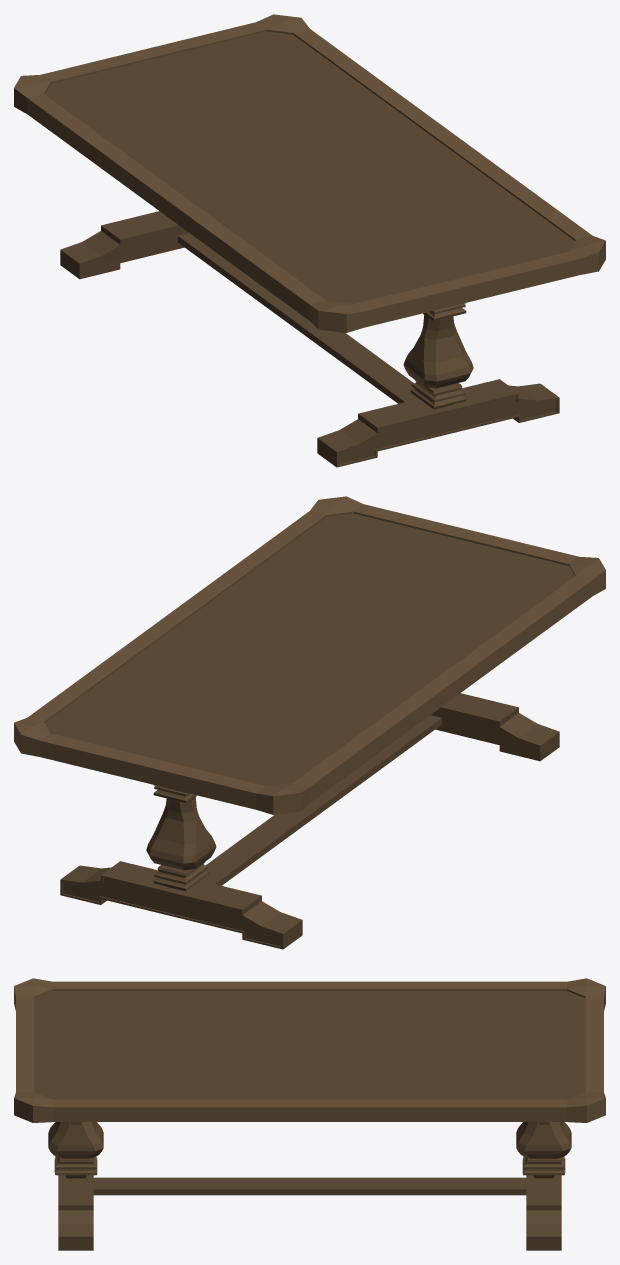
Rendered from Table2.glb.
3 renders of one model, top to bottom at view 1: azimuth 30°, elevation 25°; view 2: azimuth 150°, elevation 25°; view 3: azimuth 270°, elevation 25°, orthographic. The views are drawn at different scales.
Visible parts, largest first — view 1: Table2; view 2: Table2; view 3: Table2.
Part boxes in pixels (bbox=[...]): Table2: bbox=[14, 14, 605, 467]; Table2: bbox=[14, 496, 605, 949]; Table2: bbox=[14, 978, 605, 1250].
Size of the model in its own units: 0.9432 by 0.5482 by 1.85.
Materials: 2 (2 with a texture image).
